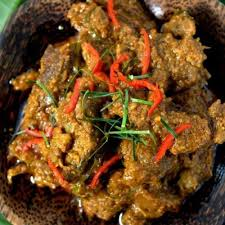rendang: (4, 4, 225, 222)
